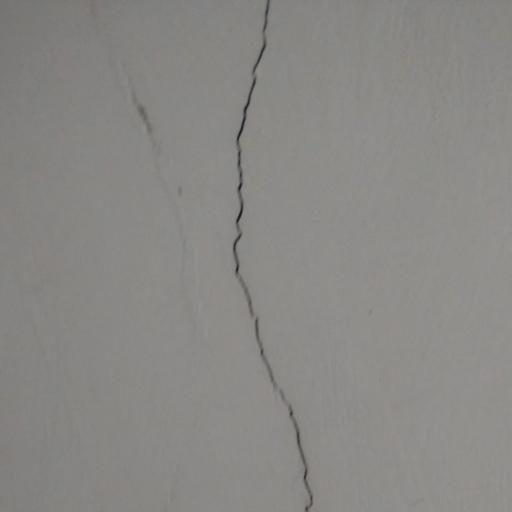minor_crack: (204, 0, 337, 512)
